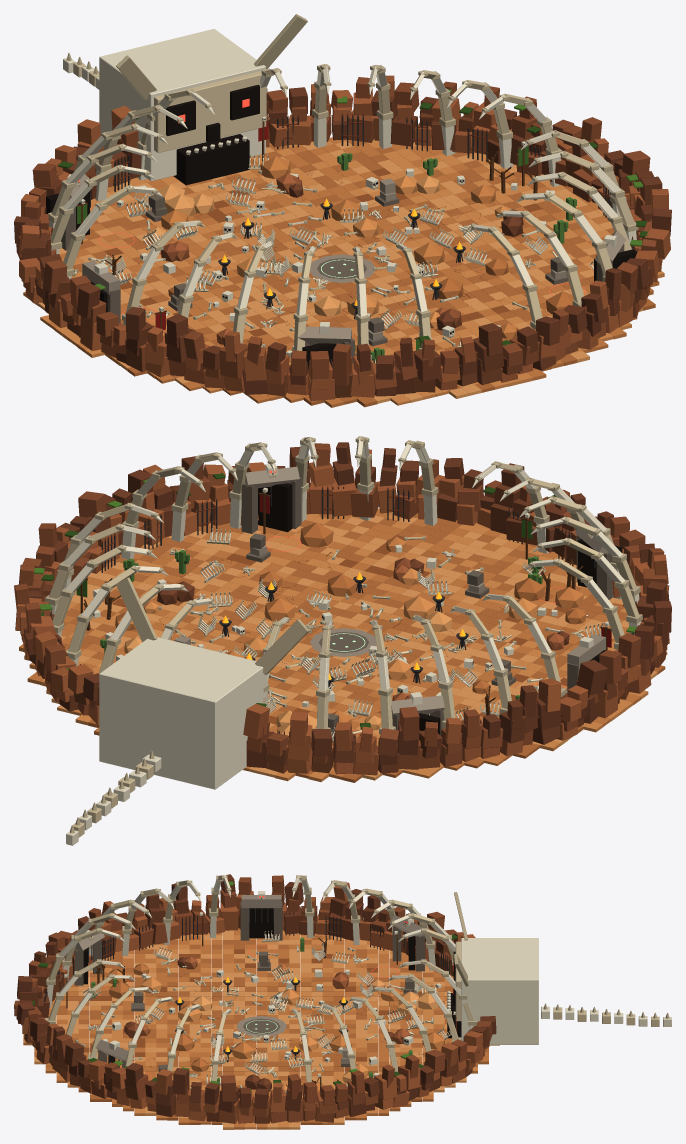
The model's file is instant-combat-bone-pit.glb.
3 views of the same model, one above another, from view 1: azimuth 30°, elevation 25°; view 2: azimuth 150°, elevation 25°; view 3: azimuth 270°, elevation 25° (orthographic). The views are drawn at different scales.
Parts seen in each view (by area): view 1: instant-combat-bone-pit; view 2: instant-combat-bone-pit; view 3: instant-combat-bone-pit.
Part boxes in pixels (x1=…): instant-combat-bone-pit: x1=14, y1=14, x2=671, y2=407; instant-combat-bone-pit: x1=14, y1=436, x2=671, y2=845; instant-combat-bone-pit: x1=14, y1=874, x2=671, y2=1129.
Bounding box in the file's own units: 88.5 × 23.16 × 119.
